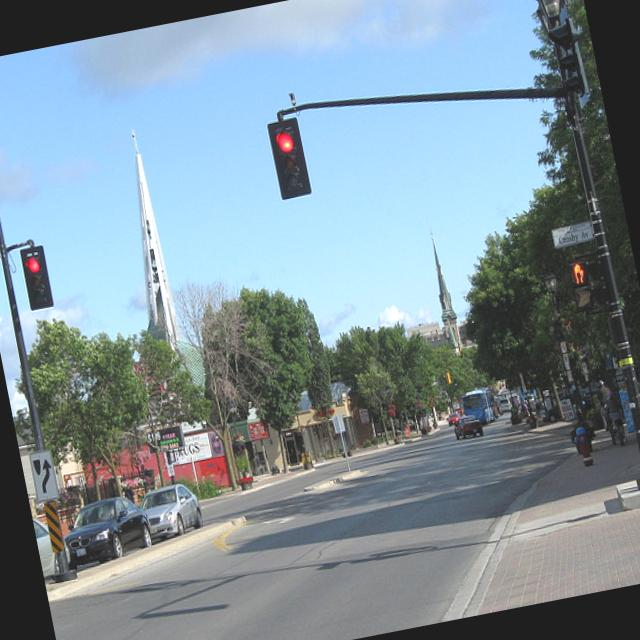Vehicle: (58, 492, 156, 570), (136, 481, 208, 544), (32, 511, 74, 582), (460, 386, 499, 429), (452, 413, 486, 442), (498, 397, 514, 415), (446, 412, 462, 428), (532, 397, 548, 412), (523, 394, 536, 406)
